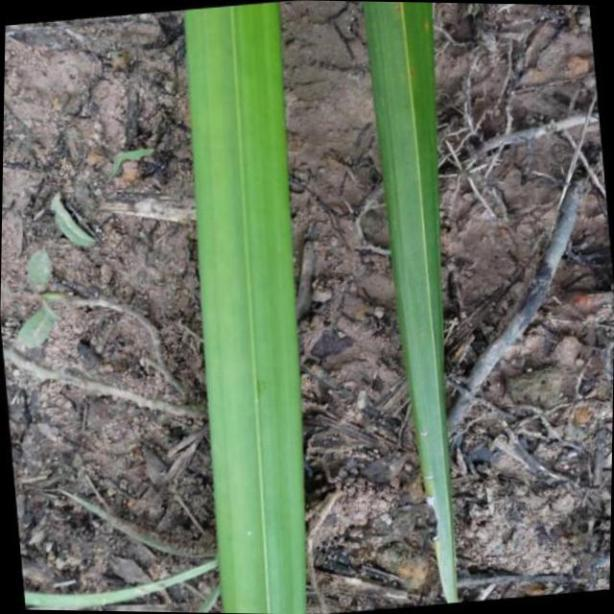nitrogen: (179, 5, 304, 614)
